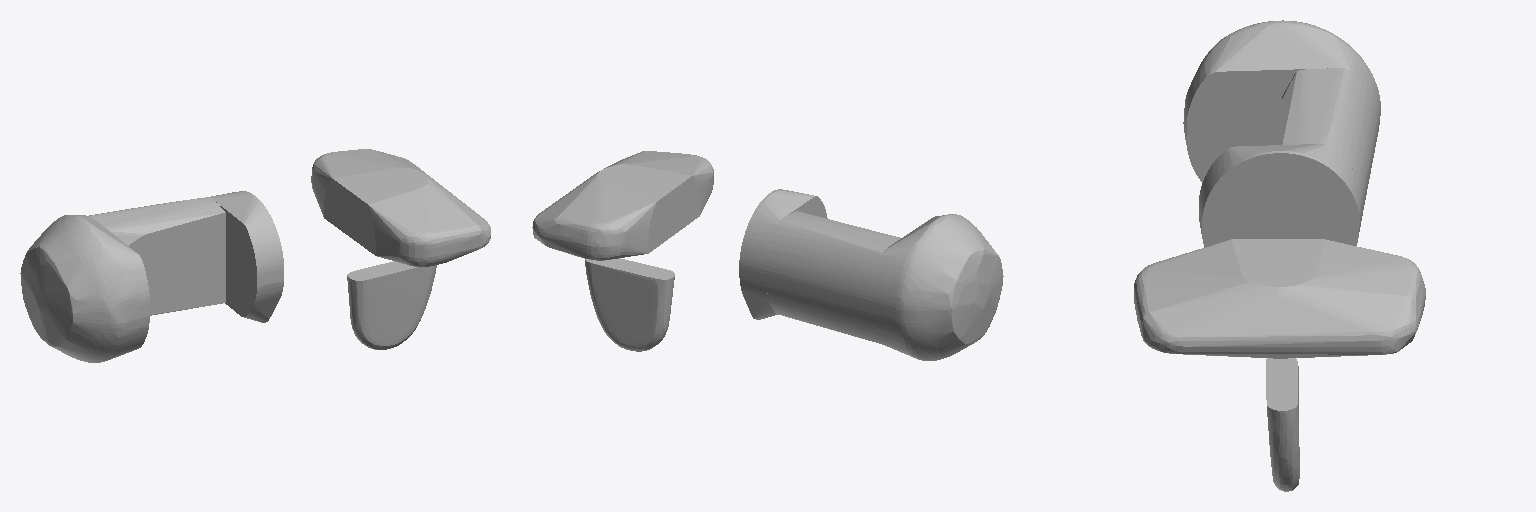
robot.urdf — root:
<robot name="root">
  <link name="link_coacd_convex_piece_0">
    <inertial>
      <origin xyz="0 0 0" rpy="0 0 0"/>
      <inertia ixx="1.01E-07" ixy="9.17E-09" ixz="8.09E-08" iyy="1.56E-06" iyz="-1.31E-09" izz="1.57E-06"/>
    </inertial>
    <visual>
      <origin xyz="0 0 0" rpy="0 0 0"/>
      <geometry>
        <mesh filename="coacd_convex_piece_0.obj" scale="1.0000E+00 1.0000E+00 1.0000E+00"/>
      </geometry>
      <material name="">
        <color rgba="7.50E-01 7.50E-01 7.50E-01 1"/>
      </material>
    </visual>
    <collision>
      <origin xyz="0 0 0" rpy="0 0 0"/>
      <geometry>
        <mesh filename="coacd_convex_piece_0.obj" scale="1.0000E+00 1.0000E+00 1.0000E+00"/>
      </geometry>
    </collision>
  </link>
  <link name="link_coacd_convex_piece_1">
    <inertial>
      <origin xyz="0 0 0" rpy="0 0 0"/>
      <inertia ixx="4.24E-08" ixy="-2.86E-09" ixz="7.68E-08" iyy="1.96E-07" iyz="1.60E-09" izz="1.54E-07"/>
    </inertial>
    <visual>
      <origin xyz="0 0 0" rpy="0 0 0"/>
      <geometry>
        <mesh filename="coacd_convex_piece_1.obj" scale="1.0000E+00 1.0000E+00 1.0000E+00"/>
      </geometry>
      <material name="">
        <color rgba="7.50E-01 7.50E-01 7.50E-01 1"/>
      </material>
    </visual>
    <collision>
      <origin xyz="0 0 0" rpy="0 0 0"/>
      <geometry>
        <mesh filename="coacd_convex_piece_1.obj" scale="1.0000E+00 1.0000E+00 1.0000E+00"/>
      </geometry>
    </collision>
  </link>
  <joint name="link_coacd_convex_piece_1_joint" type="fixed">
    <origin xyz="0 0 0" rpy="0 0 0"/>
    <parent link="link_coacd_convex_piece_0"/>
    <child link="link_coacd_convex_piece_1"/>
  </joint>
  <link name="link_coacd_convex_piece_2">
    <inertial>
      <origin xyz="0 0 0" rpy="0 0 0"/>
      <inertia ixx="1.17E-08" ixy="-5.42E-11" ixz="4.08E-08" iyy="3.22E-07" iyz="9.10E-11" izz="3.21E-07"/>
    </inertial>
    <visual>
      <origin xyz="0 0 0" rpy="0 0 0"/>
      <geometry>
        <mesh filename="coacd_convex_piece_2.obj" scale="1.0000E+00 1.0000E+00 1.0000E+00"/>
      </geometry>
      <material name="">
        <color rgba="7.50E-01 7.50E-01 7.50E-01 1"/>
      </material>
    </visual>
    <collision>
      <origin xyz="0 0 0" rpy="0 0 0"/>
      <geometry>
        <mesh filename="coacd_convex_piece_2.obj" scale="1.0000E+00 1.0000E+00 1.0000E+00"/>
      </geometry>
    </collision>
  </link>
  <joint name="link_coacd_convex_piece_2_joint" type="fixed">
    <origin xyz="0 0 0" rpy="0 0 0"/>
    <parent link="link_coacd_convex_piece_1"/>
    <child link="link_coacd_convex_piece_2"/>
  </joint>
  <link name="link_coacd_convex_piece_3">
    <inertial>
      <origin xyz="0 0 0" rpy="0 0 0"/>
      <inertia ixx="1.28E-07" ixy="-4.02E-09" ixz="-1.21E-07" iyy="1.11E-06" iyz="-1.97E-09" izz="1.21E-06"/>
    </inertial>
    <visual>
      <origin xyz="0 0 0" rpy="0 0 0"/>
      <geometry>
        <mesh filename="coacd_convex_piece_3.obj" scale="1.0000E+00 1.0000E+00 1.0000E+00"/>
      </geometry>
      <material name="">
        <color rgba="7.50E-01 7.50E-01 7.50E-01 1"/>
      </material>
    </visual>
    <collision>
      <origin xyz="0 0 0" rpy="0 0 0"/>
      <geometry>
        <mesh filename="coacd_convex_piece_3.obj" scale="1.0000E+00 1.0000E+00 1.0000E+00"/>
      </geometry>
    </collision>
  </link>
  <joint name="link_coacd_convex_piece_3_joint" type="fixed">
    <origin xyz="0 0 0" rpy="0 0 0"/>
    <parent link="link_coacd_convex_piece_2"/>
    <child link="link_coacd_convex_piece_3"/>
  </joint>
  <link name="link_coacd_convex_piece_4">
    <inertial>
      <origin xyz="0 0 0" rpy="0 0 0"/>
      <inertia ixx="6.01E-09" ixy="4.01E-10" ixz="-1.71E-08" iyy="5.68E-08" iyz="1.49E-10" izz="5.16E-08"/>
    </inertial>
    <visual>
      <origin xyz="0 0 0" rpy="0 0 0"/>
      <geometry>
        <mesh filename="coacd_convex_piece_4.obj" scale="1.0000E+00 1.0000E+00 1.0000E+00"/>
      </geometry>
      <material name="">
        <color rgba="7.50E-01 7.50E-01 7.50E-01 1"/>
      </material>
    </visual>
    <collision>
      <origin xyz="0 0 0" rpy="0 0 0"/>
      <geometry>
        <mesh filename="coacd_convex_piece_4.obj" scale="1.0000E+00 1.0000E+00 1.0000E+00"/>
      </geometry>
    </collision>
  </link>
  <joint name="link_coacd_convex_piece_4_joint" type="fixed">
    <origin xyz="0 0 0" rpy="0 0 0"/>
    <parent link="link_coacd_convex_piece_3"/>
    <child link="link_coacd_convex_piece_4"/>
  </joint>
  <link name="link_coacd_convex_piece_5">
    <inertial>
      <origin xyz="0 0 0" rpy="0 0 0"/>
      <inertia ixx="6.71E-08" ixy="1.02E-08" ixz="-1.10E-07" iyy="2.54E-07" iyz="6.09E-09" izz="1.91E-07"/>
    </inertial>
    <visual>
      <origin xyz="0 0 0" rpy="0 0 0"/>
      <geometry>
        <mesh filename="coacd_convex_piece_5.obj" scale="1.0000E+00 1.0000E+00 1.0000E+00"/>
      </geometry>
      <material name="">
        <color rgba="7.50E-01 7.50E-01 7.50E-01 1"/>
      </material>
    </visual>
    <collision>
      <origin xyz="0 0 0" rpy="0 0 0"/>
      <geometry>
        <mesh filename="coacd_convex_piece_5.obj" scale="1.0000E+00 1.0000E+00 1.0000E+00"/>
      </geometry>
    </collision>
  </link>
  <joint name="link_coacd_convex_piece_5_joint" type="fixed">
    <origin xyz="0 0 0" rpy="0 0 0"/>
    <parent link="link_coacd_convex_piece_4"/>
    <child link="link_coacd_convex_piece_5"/>
  </joint>
  <link name="link_coacd_convex_piece_6">
    <inertial>
      <origin xyz="0 0 0" rpy="0 0 0"/>
      <inertia ixx="2.65E-08" ixy="-7.77E-12" ixz="-6.01E-10" iyy="1.34E-08" iyz="-8.37E-11" izz="1.45E-08"/>
    </inertial>
    <visual>
      <origin xyz="0 0 0" rpy="0 0 0"/>
      <geometry>
        <mesh filename="coacd_convex_piece_6.obj" scale="1.0000E+00 1.0000E+00 1.0000E+00"/>
      </geometry>
      <material name="">
        <color rgba="7.50E-01 7.50E-01 7.50E-01 1"/>
      </material>
    </visual>
    <collision>
      <origin xyz="0 0 0" rpy="0 0 0"/>
      <geometry>
        <mesh filename="coacd_convex_piece_6.obj" scale="1.0000E+00 1.0000E+00 1.0000E+00"/>
      </geometry>
    </collision>
  </link>
  <joint name="link_coacd_convex_piece_6_joint" type="fixed">
    <origin xyz="0 0 0" rpy="0 0 0"/>
    <parent link="link_coacd_convex_piece_5"/>
    <child link="link_coacd_convex_piece_6"/>
  </joint>
  <link name="link_coacd_convex_piece_7">
    <inertial>
      <origin xyz="0 0 0" rpy="0 0 0"/>
      <inertia ixx="6.18E-08" ixy="8.41E-08" ixz="2.29E-08" iyy="2.88E-07" iyz="-8.89E-09" izz="3.04E-07"/>
    </inertial>
    <visual>
      <origin xyz="0 0 0" rpy="0 0 0"/>
      <geometry>
        <mesh filename="coacd_convex_piece_7.obj" scale="1.0000E+00 1.0000E+00 1.0000E+00"/>
      </geometry>
      <material name="">
        <color rgba="7.50E-01 7.50E-01 7.50E-01 1"/>
      </material>
    </visual>
    <collision>
      <origin xyz="0 0 0" rpy="0 0 0"/>
      <geometry>
        <mesh filename="coacd_convex_piece_7.obj" scale="1.0000E+00 1.0000E+00 1.0000E+00"/>
      </geometry>
    </collision>
  </link>
  <joint name="link_coacd_convex_piece_7_joint" type="fixed">
    <origin xyz="0 0 0" rpy="0 0 0"/>
    <parent link="link_coacd_convex_piece_6"/>
    <child link="link_coacd_convex_piece_7"/>
  </joint>
  <link name="link_coacd_convex_piece_8">
    <inertial>
      <origin xyz="0 0 0" rpy="0 0 0"/>
      <inertia ixx="5.84E-08" ixy="-7.97E-08" ixz="1.84E-08" iyy="2.91E-07" iyz="7.12E-09" izz="3.04E-07"/>
    </inertial>
    <visual>
      <origin xyz="0 0 0" rpy="0 0 0"/>
      <geometry>
        <mesh filename="coacd_convex_piece_8.obj" scale="1.0000E+00 1.0000E+00 1.0000E+00"/>
      </geometry>
      <material name="">
        <color rgba="7.50E-01 7.50E-01 7.50E-01 1"/>
      </material>
    </visual>
    <collision>
      <origin xyz="0 0 0" rpy="0 0 0"/>
      <geometry>
        <mesh filename="coacd_convex_piece_8.obj" scale="1.0000E+00 1.0000E+00 1.0000E+00"/>
      </geometry>
    </collision>
  </link>
  <joint name="link_coacd_convex_piece_8_joint" type="fixed">
    <origin xyz="0 0 0" rpy="0 0 0"/>
    <parent link="link_coacd_convex_piece_7"/>
    <child link="link_coacd_convex_piece_8"/>
  </joint>
  <link name="link_coacd_convex_piece_9">
    <inertial>
      <origin xyz="0 0 0" rpy="0 0 0"/>
      <inertia ixx="6.41E-08" ixy="7.84E-11" ixz="-2.21E-08" iyy="2.30E-07" iyz="2.47E-10" izz="2.31E-07"/>
    </inertial>
    <visual>
      <origin xyz="0 0 0" rpy="0 0 0"/>
      <geometry>
        <mesh filename="coacd_convex_piece_9.obj" scale="1.0000E+00 1.0000E+00 1.0000E+00"/>
      </geometry>
      <material name="">
        <color rgba="7.50E-01 7.50E-01 7.50E-01 1"/>
      </material>
    </visual>
    <collision>
      <origin xyz="0 0 0" rpy="0 0 0"/>
      <geometry>
        <mesh filename="coacd_convex_piece_9.obj" scale="1.0000E+00 1.0000E+00 1.0000E+00"/>
      </geometry>
    </collision>
  </link>
  <joint name="link_coacd_convex_piece_9_joint" type="fixed">
    <origin xyz="0 0 0" rpy="0 0 0"/>
    <parent link="link_coacd_convex_piece_8"/>
    <child link="link_coacd_convex_piece_9"/>
  </joint>
</robot>

--- Facts derived from the render (not from the file) ---
Views: 3 orthographic renders of the robot side by side, from view 1: azimuth 30°, elevation 25°; view 2: azimuth 150°, elevation 25°; view 3: azimuth 270°, elevation 25°.
Robot: root — 10 links, 9 joints (9 fixed); root link link_coacd_convex_piece_0; default pose: every joint at zero.
Links seen in each view (by area): view 1: link_coacd_convex_piece_0, link_coacd_convex_piece_3, link_coacd_convex_piece_7, link_coacd_convex_piece_6, link_coacd_convex_piece_1; view 2: link_coacd_convex_piece_0, link_coacd_convex_piece_3, link_coacd_convex_piece_7, link_coacd_convex_piece_1, link_coacd_convex_piece_6; view 3: link_coacd_convex_piece_3, link_coacd_convex_piece_0, link_coacd_convex_piece_6, link_coacd_convex_piece_7, link_coacd_convex_piece_1.
Link boxes in pixels (x1=…): link_coacd_convex_piece_0: x1=20, y1=215, x2=149, y2=362; link_coacd_convex_piece_3: x1=311, y1=149, x2=490, y2=266; link_coacd_convex_piece_7: x1=89, y1=197, x2=225, y2=315; link_coacd_convex_piece_6: x1=210, y1=191, x2=283, y2=322; link_coacd_convex_piece_1: x1=347, y1=261, x2=436, y2=349; link_coacd_convex_piece_0: x1=873, y1=214, x2=1003, y2=360; link_coacd_convex_piece_3: x1=532, y1=151, x2=713, y2=260; link_coacd_convex_piece_7: x1=766, y1=211, x2=900, y2=343; link_coacd_convex_piece_1: x1=584, y1=258, x2=674, y2=351; link_coacd_convex_piece_6: x1=739, y1=189, x2=827, y2=319; link_coacd_convex_piece_3: x1=1134, y1=239, x2=1425, y2=358; link_coacd_convex_piece_0: x1=1183, y1=20, x2=1380, y2=182; link_coacd_convex_piece_6: x1=1199, y1=144, x2=1362, y2=247; link_coacd_convex_piece_7: x1=1282, y1=68, x2=1377, y2=215; link_coacd_convex_piece_1: x1=1266, y1=358, x2=1299, y2=491.
Bounding box of the posed robot: 0.2539 × 0.1188 × 0.1202 m (x, y, z).
Meshes: 10 distinct files referenced, 5 mesh visuals loaded (5 OBJ); not drawn: 5 (reference not matched to a file when rendering).